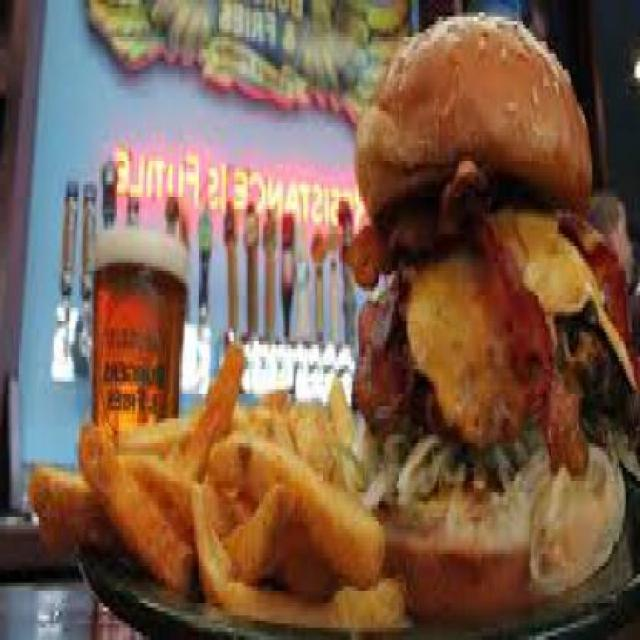french fries: (32, 369, 374, 628)
